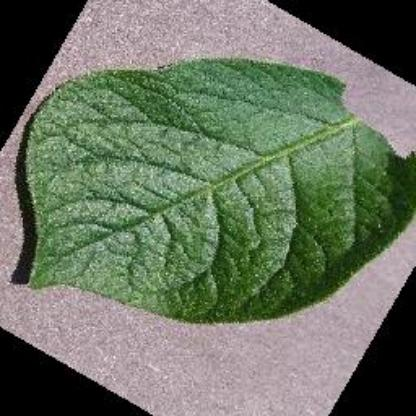Healthy-plant: (10, 18, 408, 398)
